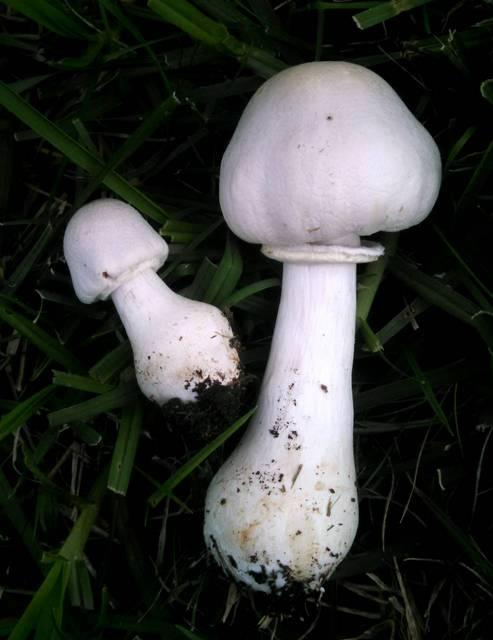Non-edible Mushroom: (201, 58, 442, 605), (61, 195, 247, 439)
